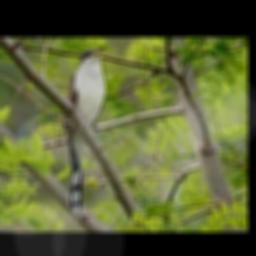Cuckoo: (65, 49, 107, 216)
